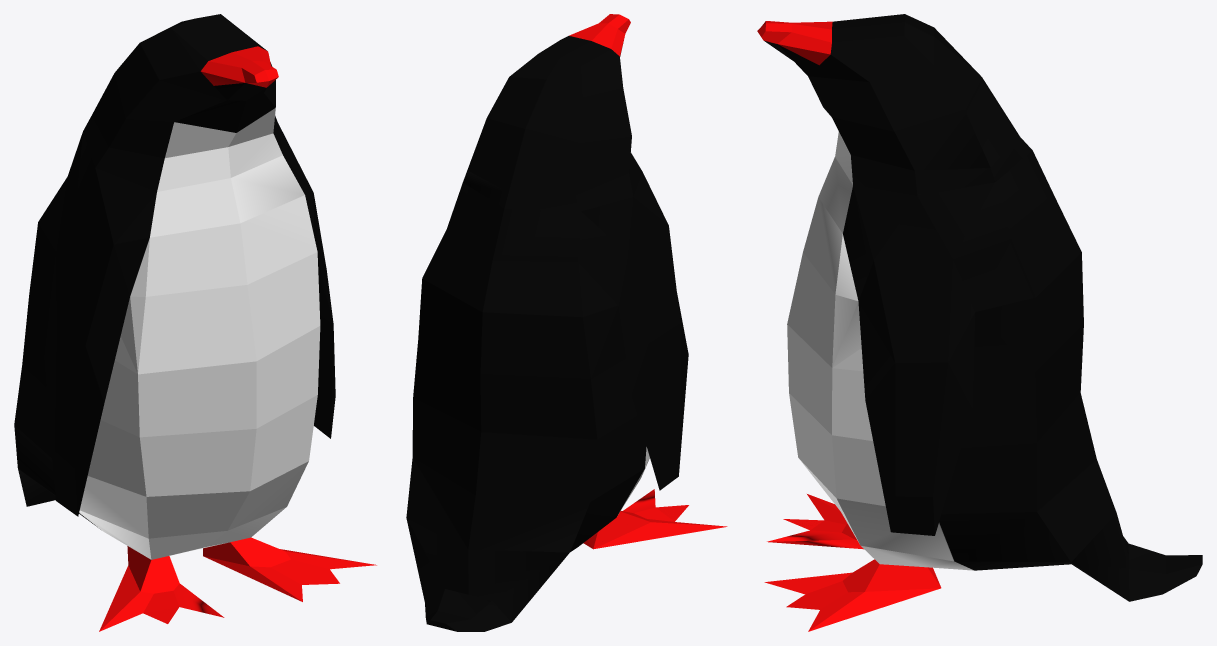
The model's file is penguin_2.8.obj.
3 renders of one model, left to right at view 1: azimuth 30°, elevation 25°; view 2: azimuth 150°, elevation 25°; view 3: azimuth 270°, elevation 25°, orthographic. The views are drawn at different scales.
Parts seen in each view (by area): view 1: penguin_pen_Mesh; view 2: penguin_pen_Mesh; view 3: penguin_pen_Mesh.
Part boxes in pixels (x1,y1,x2,y2): penguin_pen_Mesh: (14, 14, 376, 631); penguin_pen_Mesh: (406, 14, 727, 631); penguin_pen_Mesh: (757, 14, 1202, 631).
Size of the model in its own units: 2.75 by 5.21 by 3.76.
